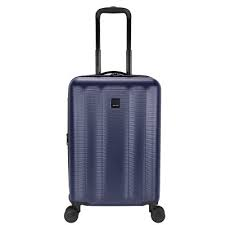suitcase: (61, 4, 167, 225)
